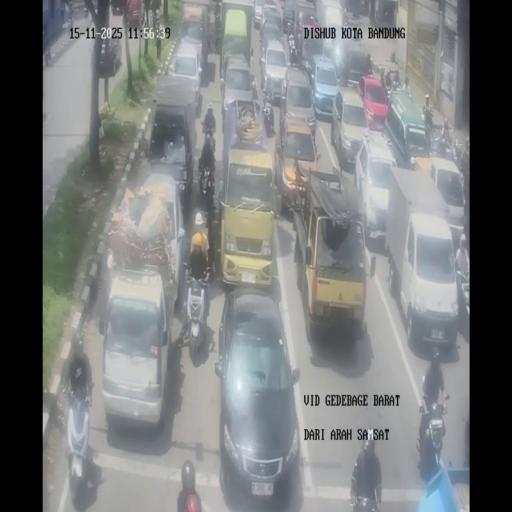3: (292, 170, 368, 340), (218, 0, 253, 70), (41, 1, 67, 49), (316, 0, 345, 41), (377, 0, 399, 27)
car: (214, 290, 301, 505), (100, 268, 174, 430), (218, 140, 278, 290), (129, 174, 187, 307), (355, 132, 399, 237), (275, 112, 318, 214), (385, 90, 430, 166), (425, 157, 465, 241), (332, 84, 371, 168), (220, 57, 256, 129), (169, 41, 203, 114), (261, 40, 289, 104), (180, 1, 210, 58), (344, 45, 374, 89), (300, 35, 324, 81), (98, 31, 122, 75), (321, 41, 344, 81), (260, 5, 283, 40), (299, 12, 318, 41), (281, 0, 297, 32), (125, 0, 140, 24), (253, 0, 263, 27), (110, 0, 126, 15)
truck: (64, 380, 95, 504), (416, 397, 448, 480), (182, 270, 210, 360), (350, 462, 381, 509), (448, 220, 466, 266), (455, 263, 470, 318), (195, 202, 212, 242), (198, 160, 214, 198), (422, 110, 435, 148), (435, 132, 452, 158), (201, 128, 216, 157), (287, 34, 299, 66), (149, 4, 162, 31), (214, 6, 222, 48), (453, 138, 463, 168), (399, 83, 412, 100), (379, 68, 388, 92), (391, 74, 402, 92), (66, 2, 74, 24), (375, 7, 380, 25), (83, 4, 89, 18)
